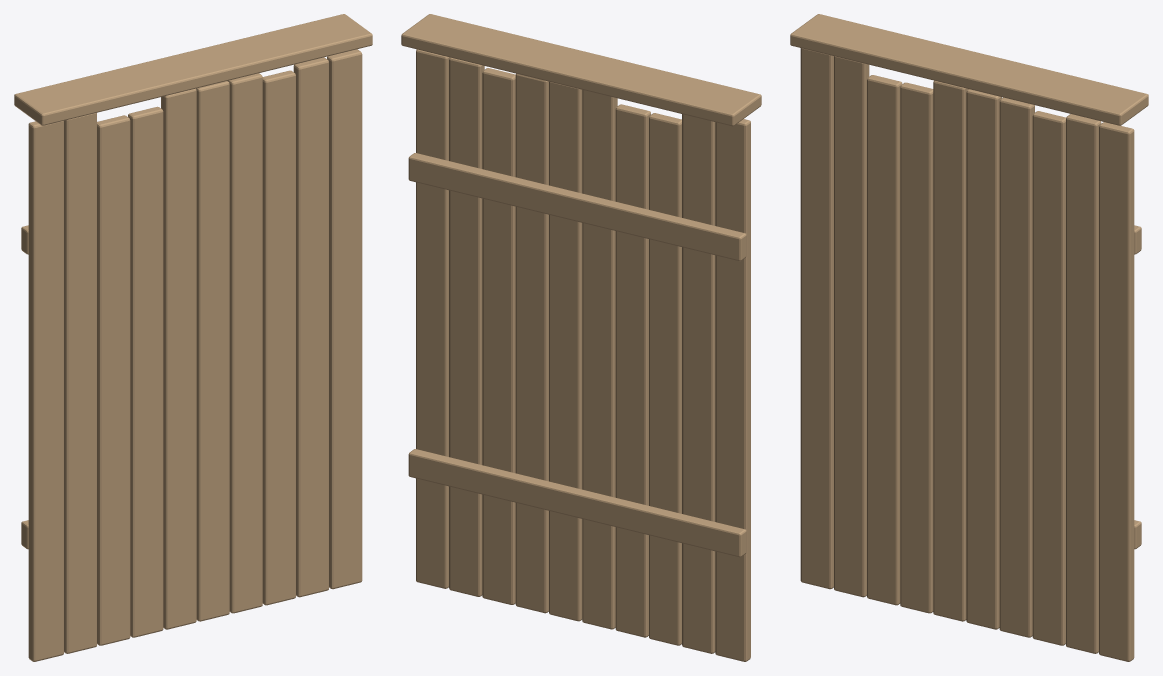
The model's file is fence.glb.
3 renders of one model, left to right at view 1: azimuth 30°, elevation 25°; view 2: azimuth 150°, elevation 25°; view 3: azimuth 330°, elevation 25°, orthographic.
Visible parts, largest first — view 1: fence; view 2: fence; view 3: fence.
Part boxes in pixels (x1,y1,x2,y2): fence: (14,14,372,661); fence: (401,14,761,661); fence: (790,14,1148,661).
Bounding box in the file's own units: 2 × 3.21 × 0.3.
